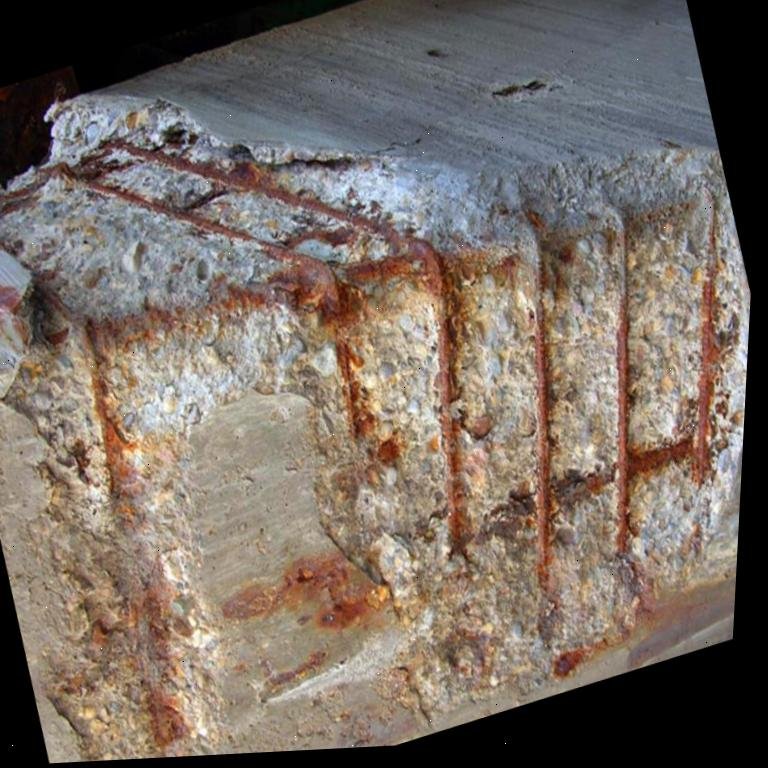exposed_rebar: (112, 140, 469, 557), (87, 183, 336, 308), (629, 212, 719, 484), (533, 298, 552, 588), (615, 230, 631, 552)
spalling: (0, 93, 751, 762)
